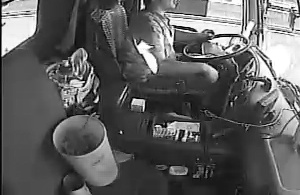paper: (167, 120, 201, 134)
